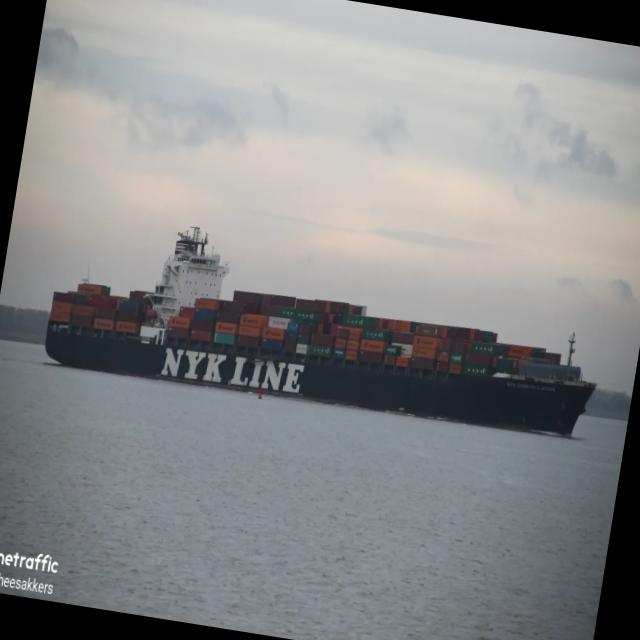Cargo: (46, 227, 596, 436)
